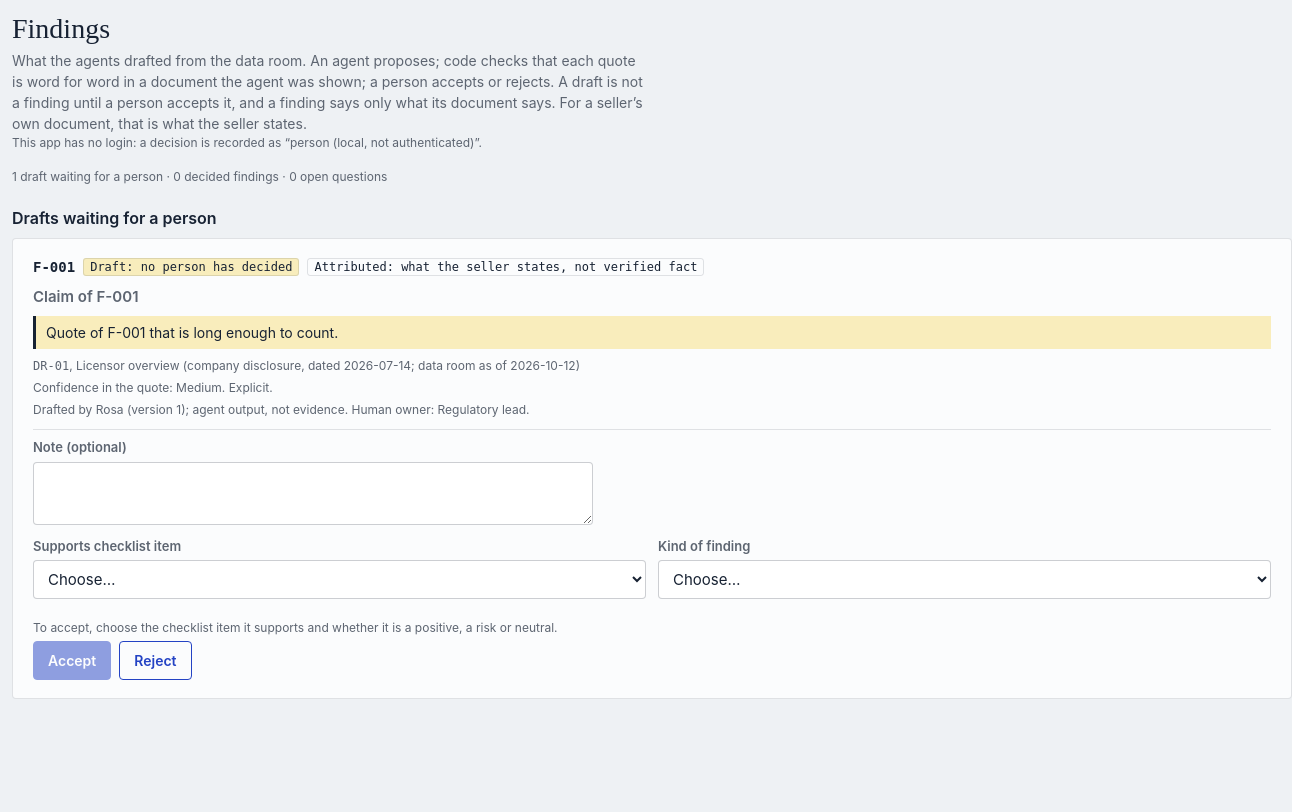
Test: FindingsPanel › keeps Accept off until both the checklist item and the kind are chosen, and says why
Check: the text "To accept, choose the checklist item it supports" is shown, box [33,620,558,635]
Select "Applicable guidance" in the dropdown named "Checklist item for F-001". click: {"x": 340, "y": 580}
box: [33,560,646,599]
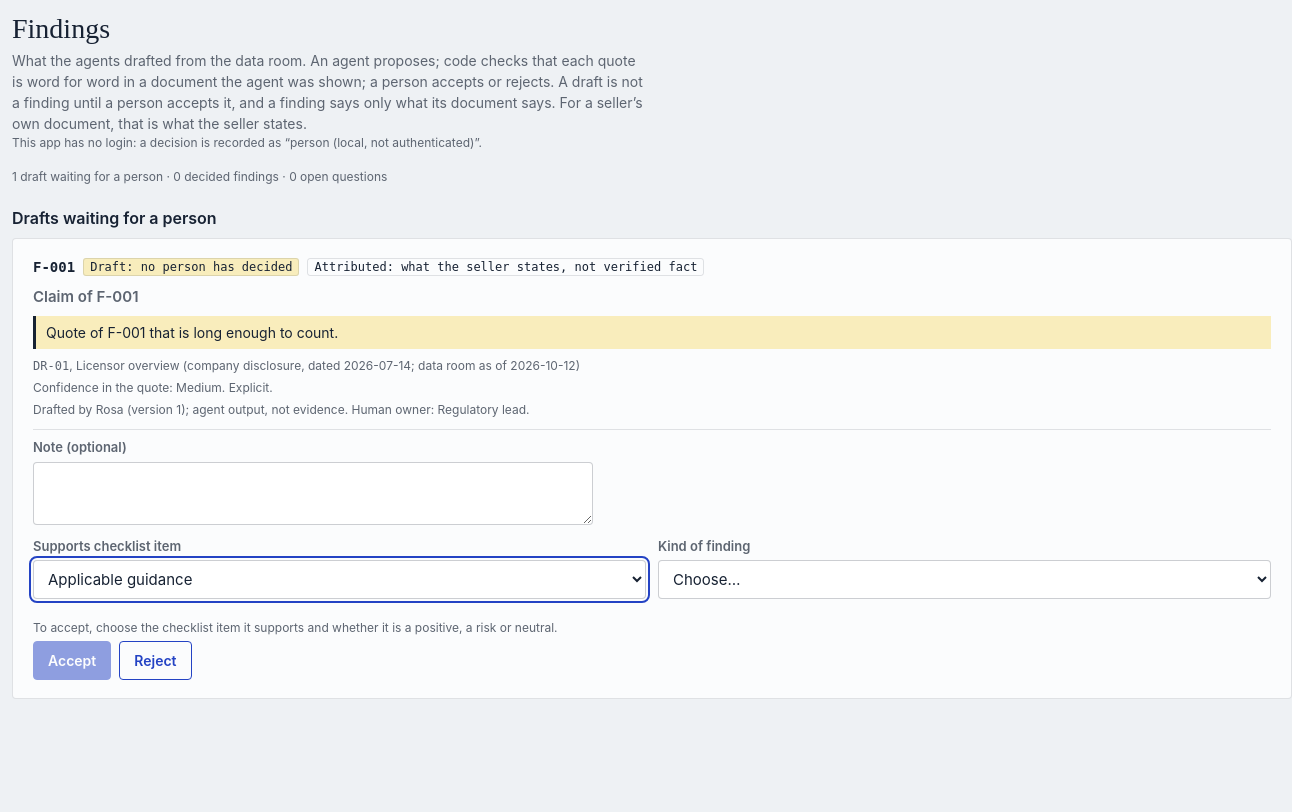
Check: the button with aria-label "Accept F-001" is disabled, box [33,641,111,680]
Select "Positive" in the dropdown named "Kind of finding for F-001". click: {"x": 964, "y": 580}
box: [658,560,1271,599]
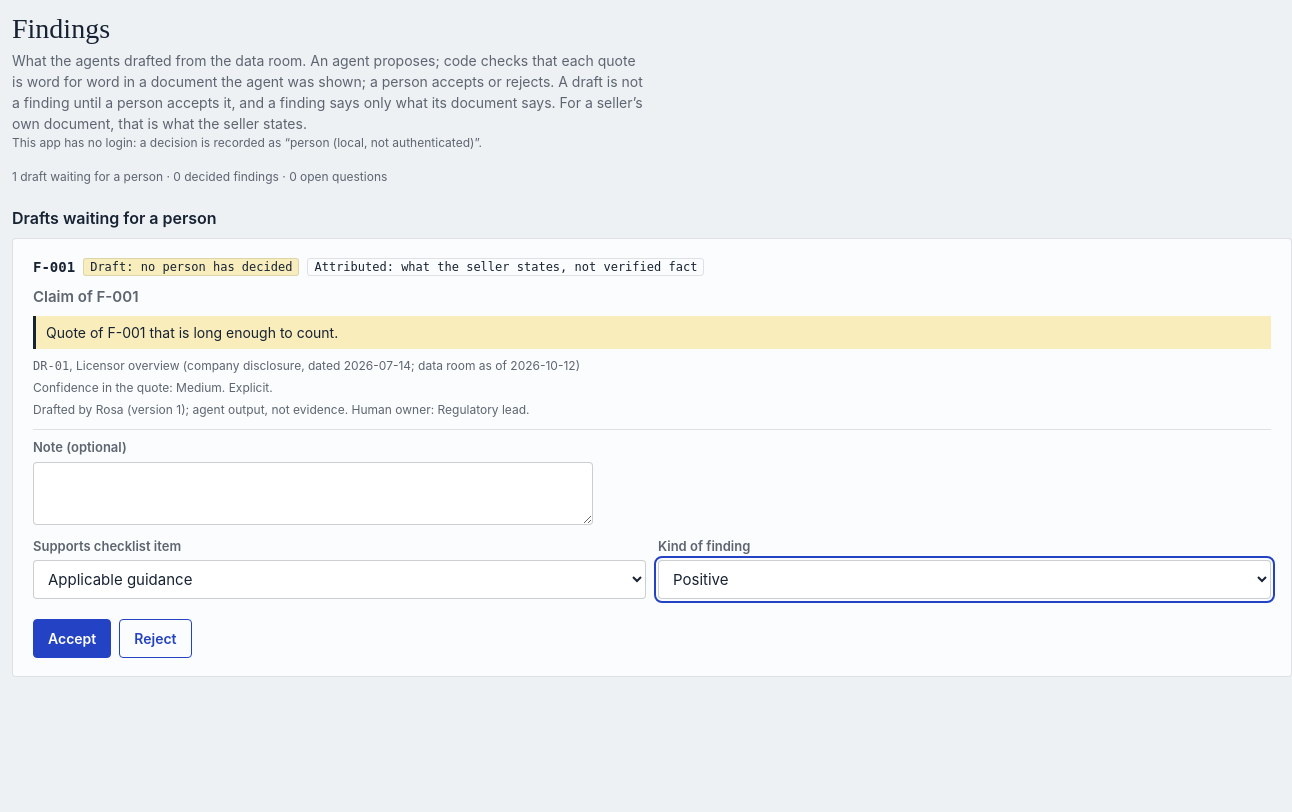
Check: the button with aria-label "Accept F-001" is enabled, box [33,619,111,658]
Check: the text "To accept, choose" is gone
